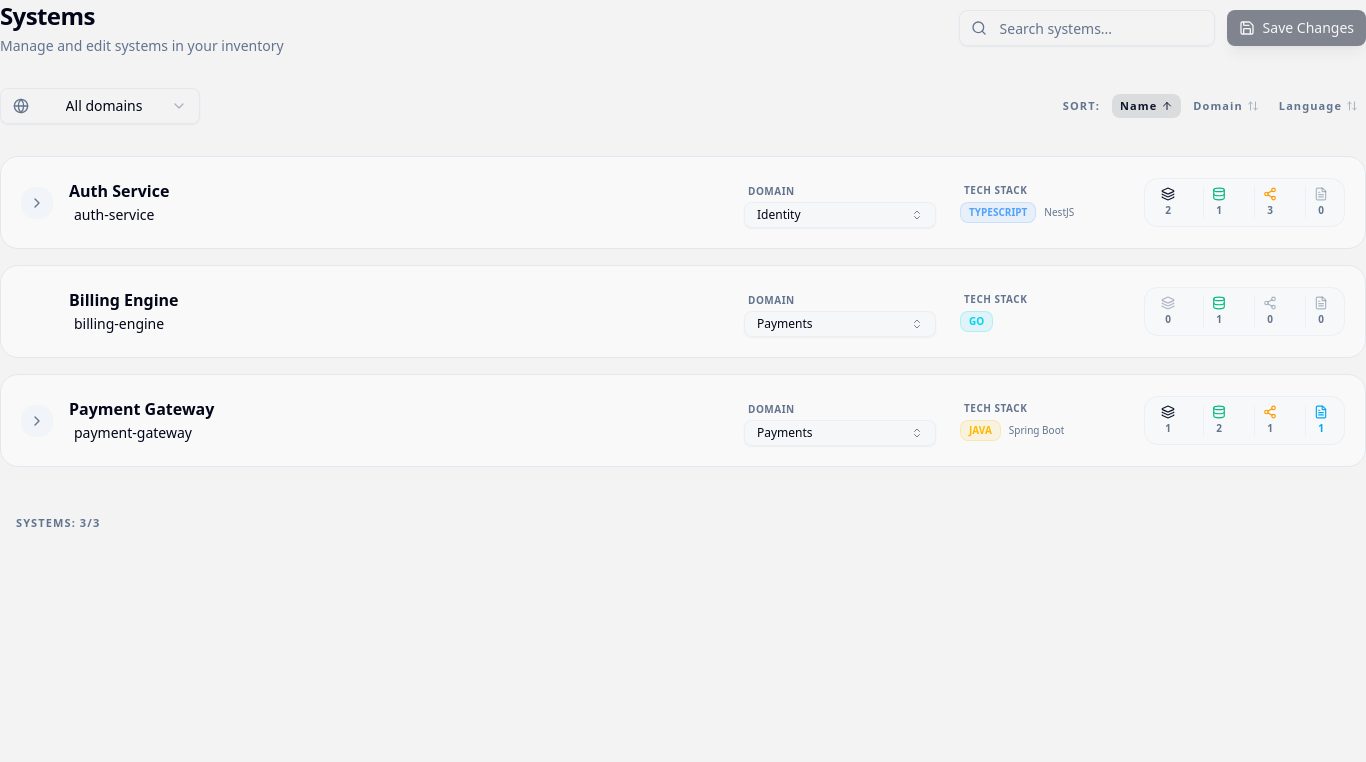
SystemsTable › collapses expanded row on second click
This screenshot has width=1366, height=762.
Click the text "Auth Service" at (37,202), box [21,178,1345,228]
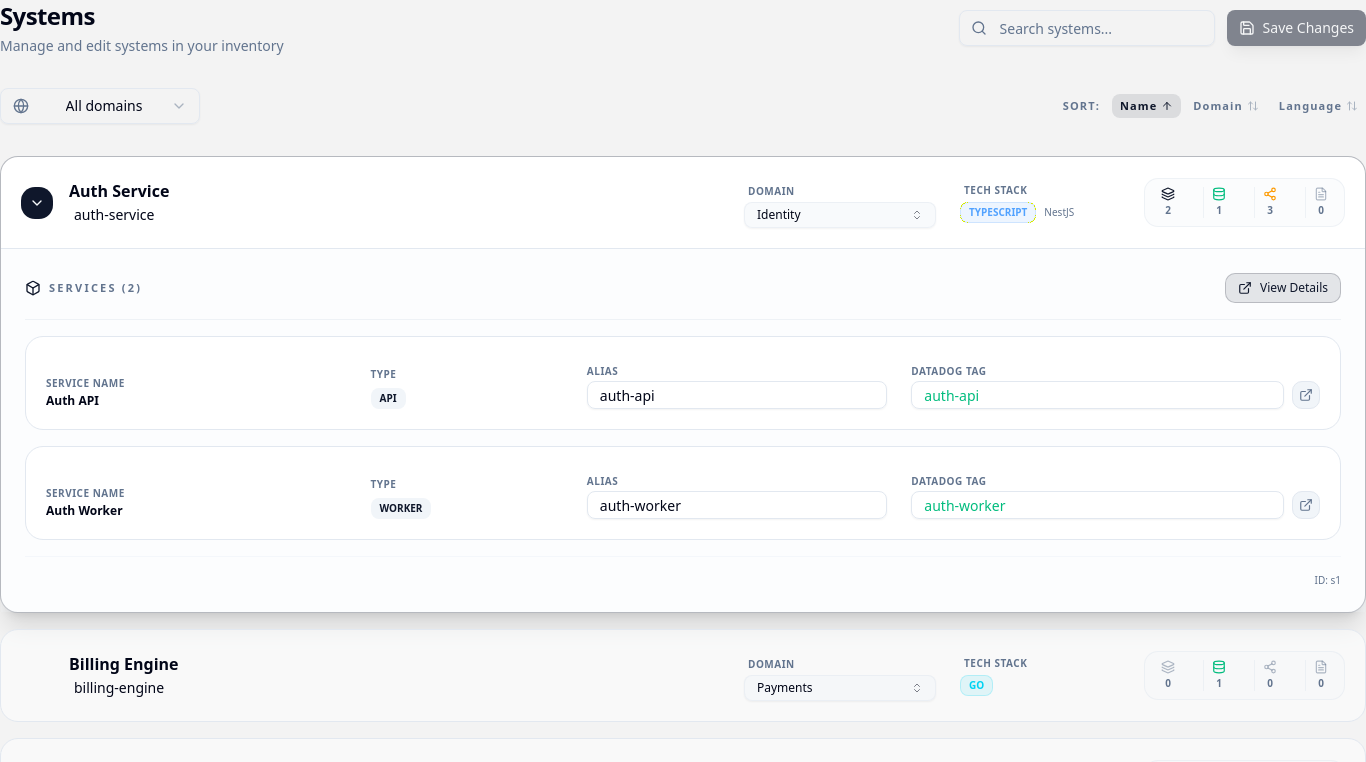
Expected: the text "Auth API" is shown, [46,392,99,409]
Click the text "Auth Service" at (37,202), box [21,178,1345,228]
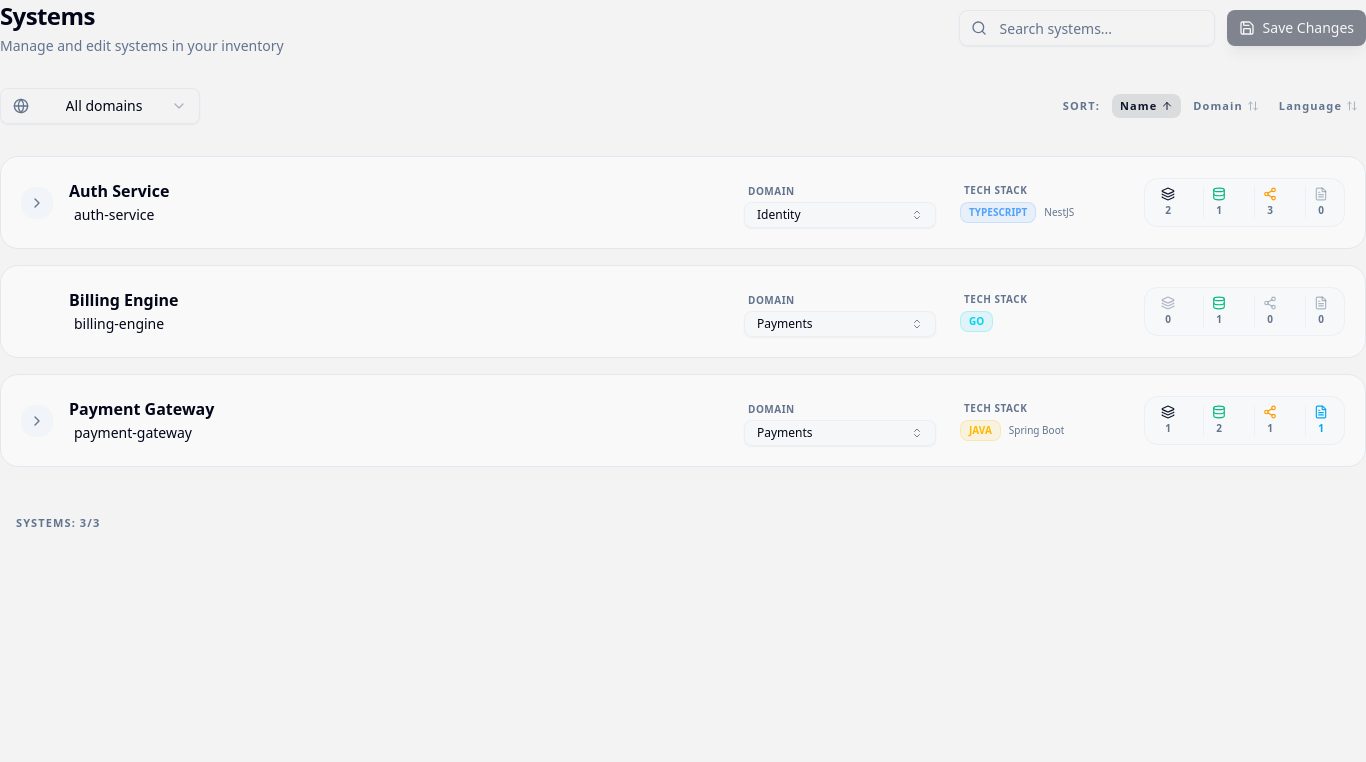
Expected: the text "Auth API" is gone
